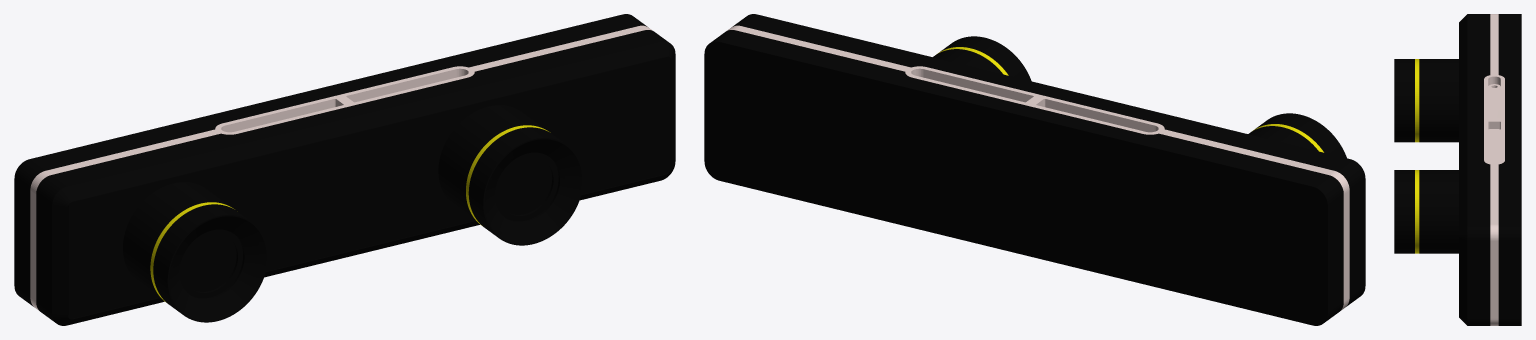
File: zedm.glb
3 views of the same model, side by side, from view 1: azimuth 30°, elevation 25°; view 2: azimuth 150°, elevation 25°; view 3: azimuth 270°, elevation 25° (orthographic). The views are drawn at different scales.
Visible parts, largest first — view 1: imagetostl_mesh; view 2: imagetostl_mesh; view 3: imagetostl_mesh.
Part boxes in pixels (x1,y1,x2,y2): imagetostl_mesh: (14, 14, 675, 325); imagetostl_mesh: (704, 14, 1365, 325); imagetostl_mesh: (1394, 14, 1521, 325).
Size of the model in its own units: 1.25 by 0.265 by 0.305.
